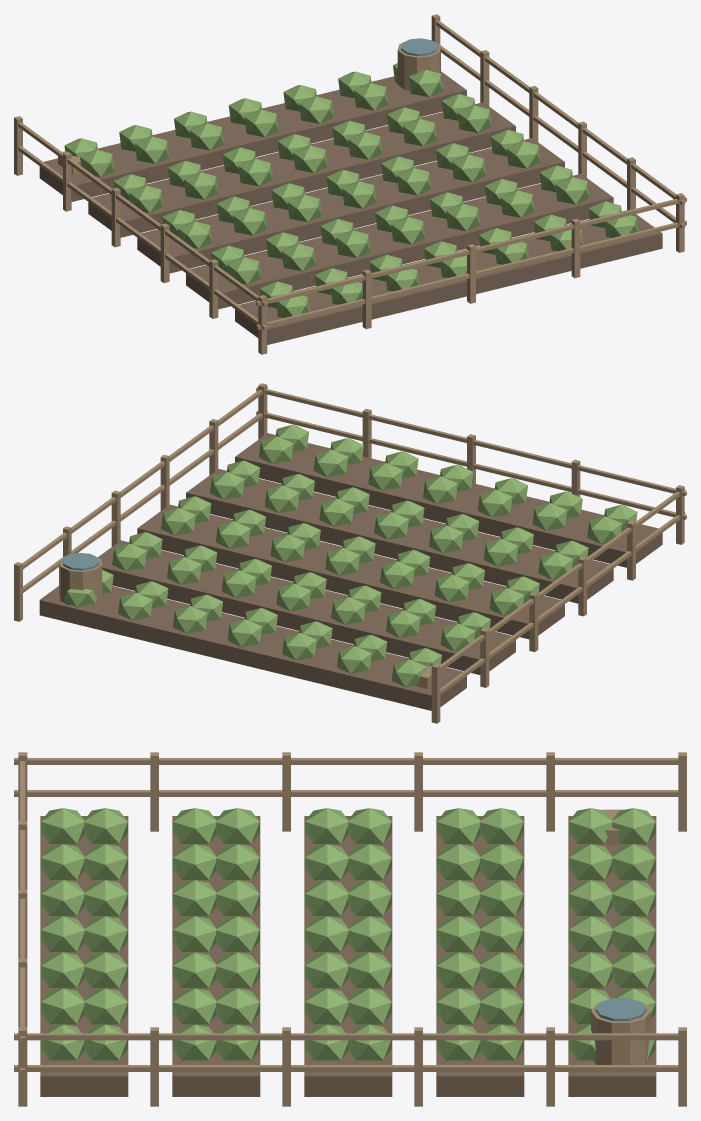
File: farm.glb
3 renders of one model, top to bottom at view 1: azimuth 30°, elevation 25°; view 2: azimuth 150°, elevation 25°; view 3: azimuth 270°, elevation 25°, orthographic. The views are drawn at different scales.
Visible parts, largest first — view 1: farm; view 2: farm; view 3: farm.
Boxes of the visible parts, <box> form: farm: <box>14,14,686,354</box>; farm: <box>14,383,686,723</box>; farm: <box>14,752,686,1106</box>.
Bounding box in the file's own units: 7.6 × 0.95 × 7.65.
